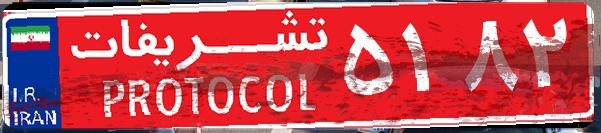1: (400, 20, 460, 115)
2: (520, 20, 580, 115)
5: (340, 20, 400, 115)
8: (460, 20, 520, 115)
تشریفات: (60, 8, 340, 125)
